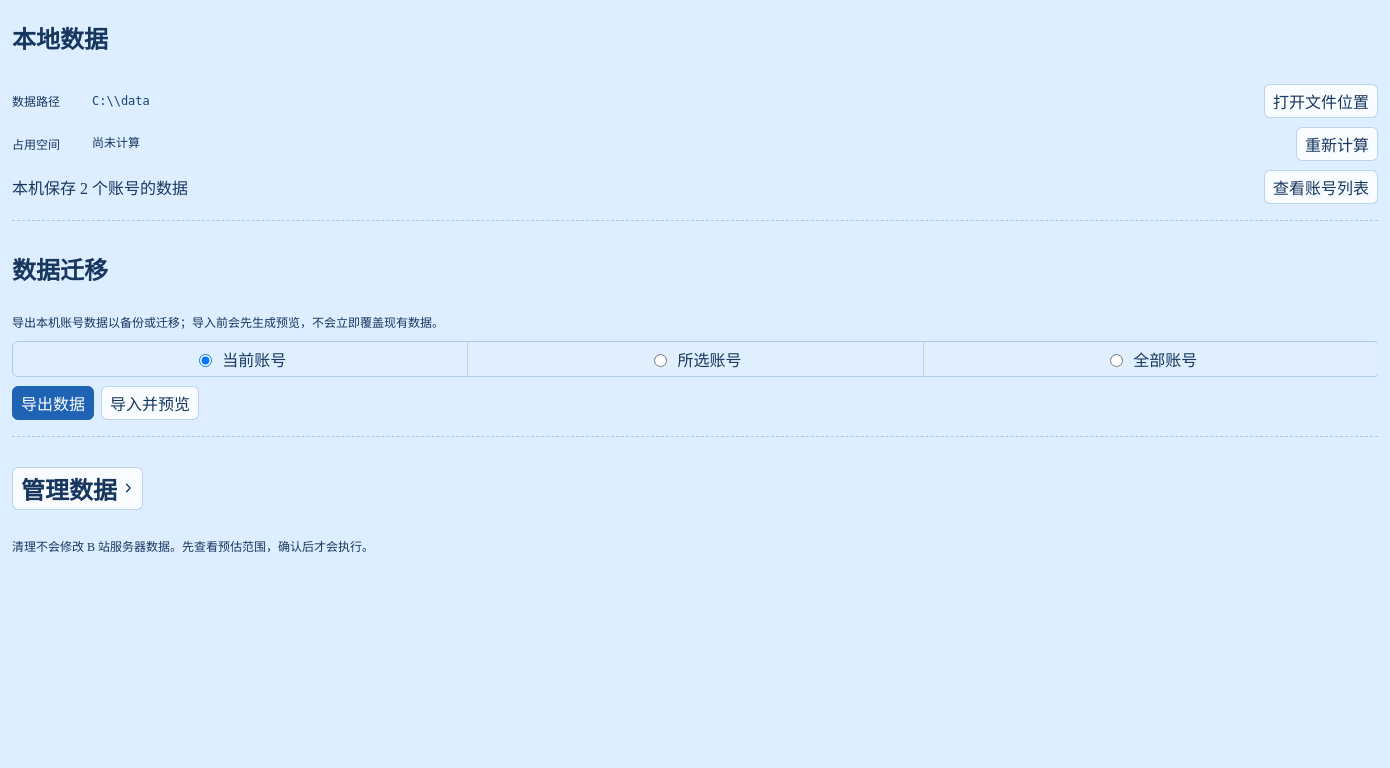
it: LocalDataSettings › groups local storage, migration, and destructive controls without exposing every account by default
Expected: the heading "本地数据" is shown, [12, 27, 108, 53]
Expected: the heading "数据迁移" is shown, [12, 258, 108, 284]
Click the button "查看账号列表" at (1321, 187), box [1264, 170, 1378, 204]
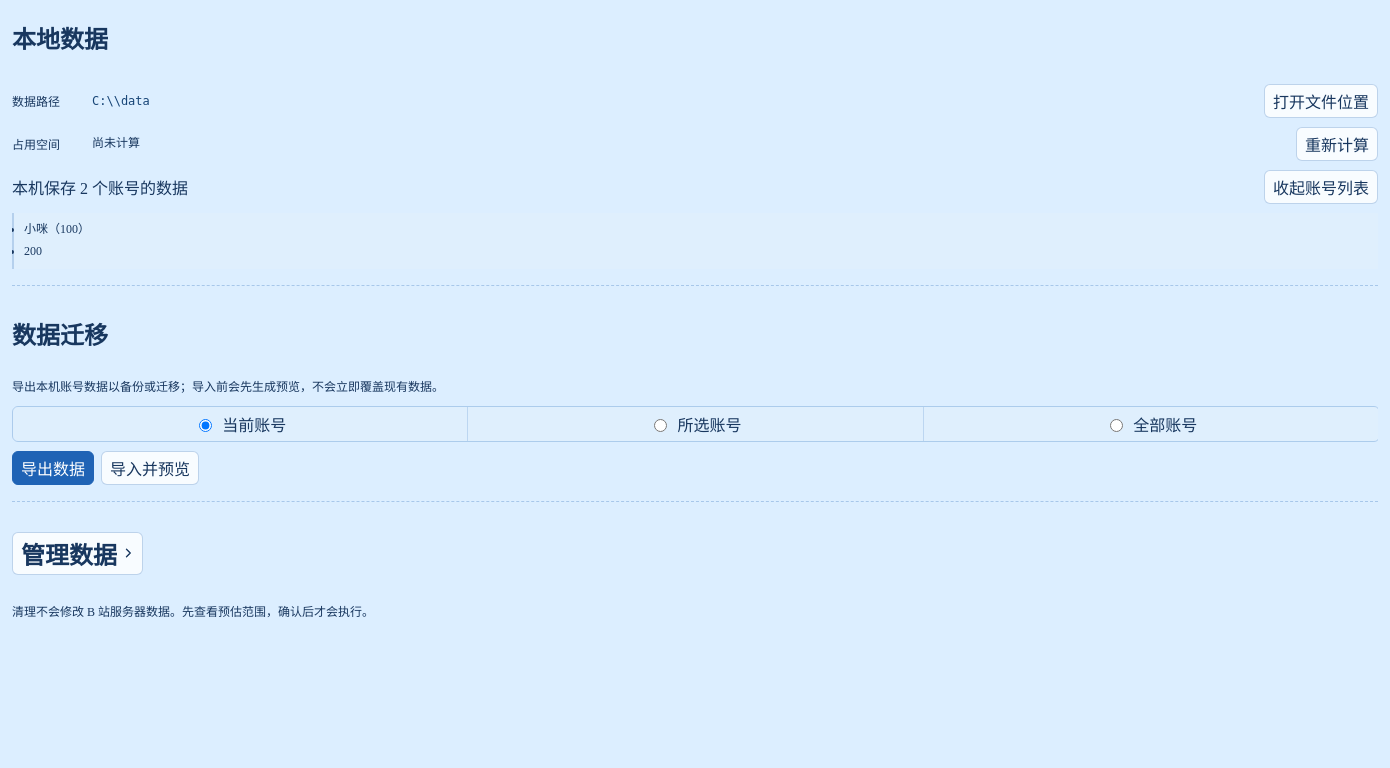
Expected: the list item "200" is shown, [24, 244, 42, 258]
